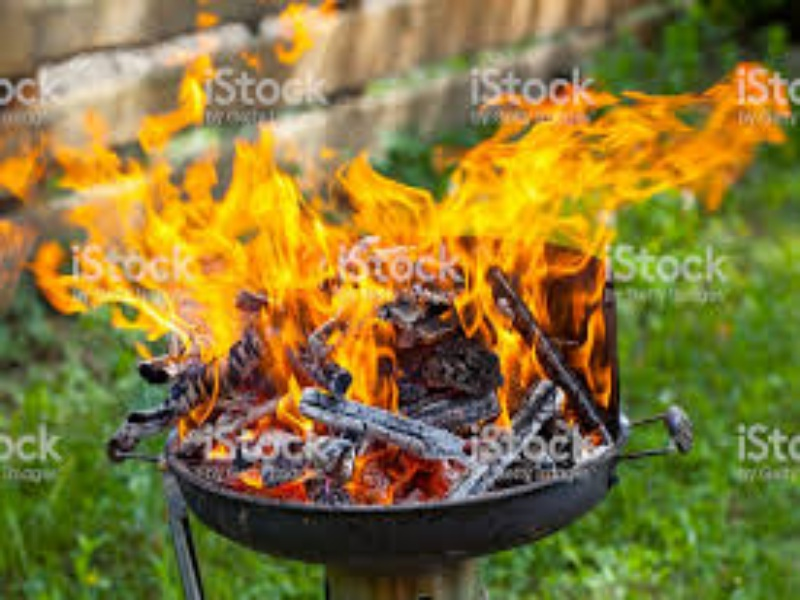fire: (1, 3, 800, 434)
